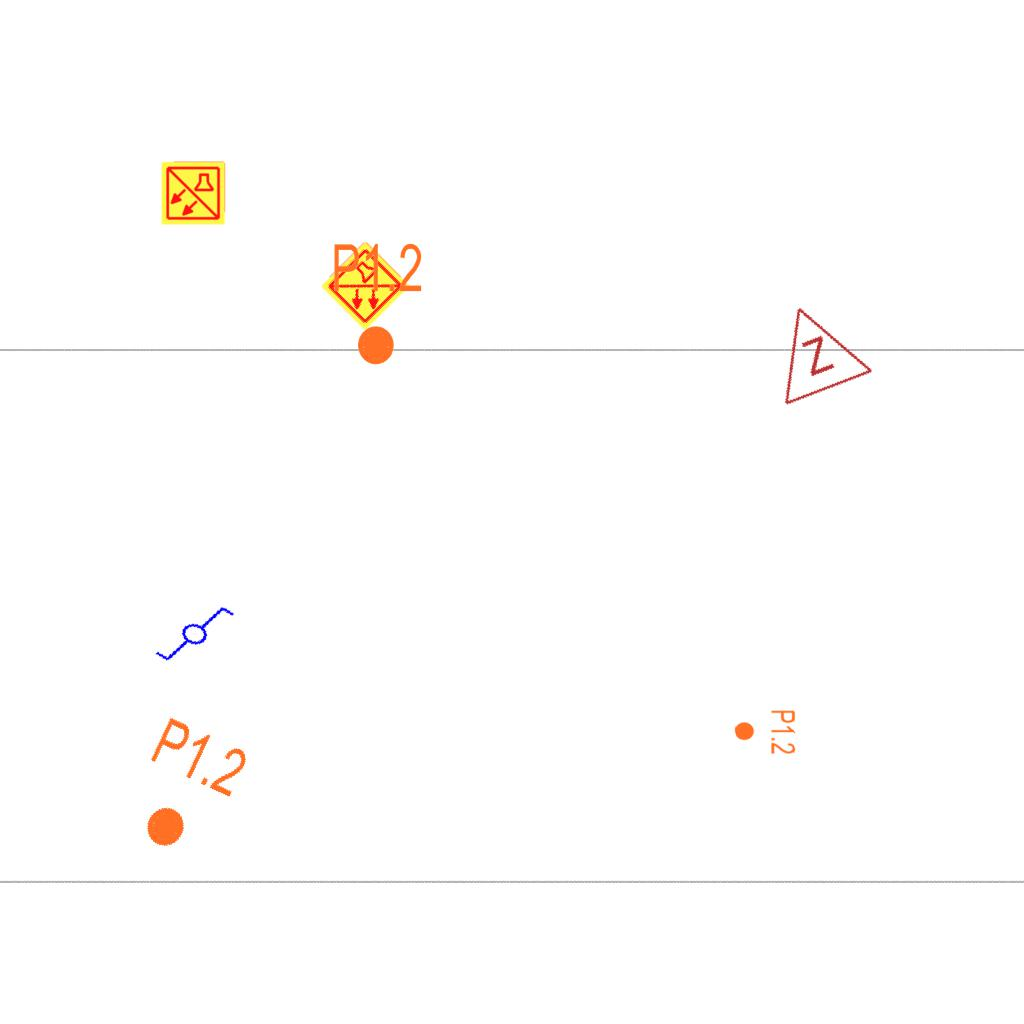Downlight_LED_Einbauleuchten_Flur: (115, 712, 254, 868), (331, 240, 424, 368), (732, 708, 798, 756)
OKW_Multisensormelder_(Kombination_optischer_Rauch-Kahlenmonoxid_Waerme-Melder): (318, 239, 412, 333), (160, 160, 226, 226)
Wechselschalter: (144, 587, 238, 677)
Zimmersignalleuchte: (749, 284, 877, 414)
